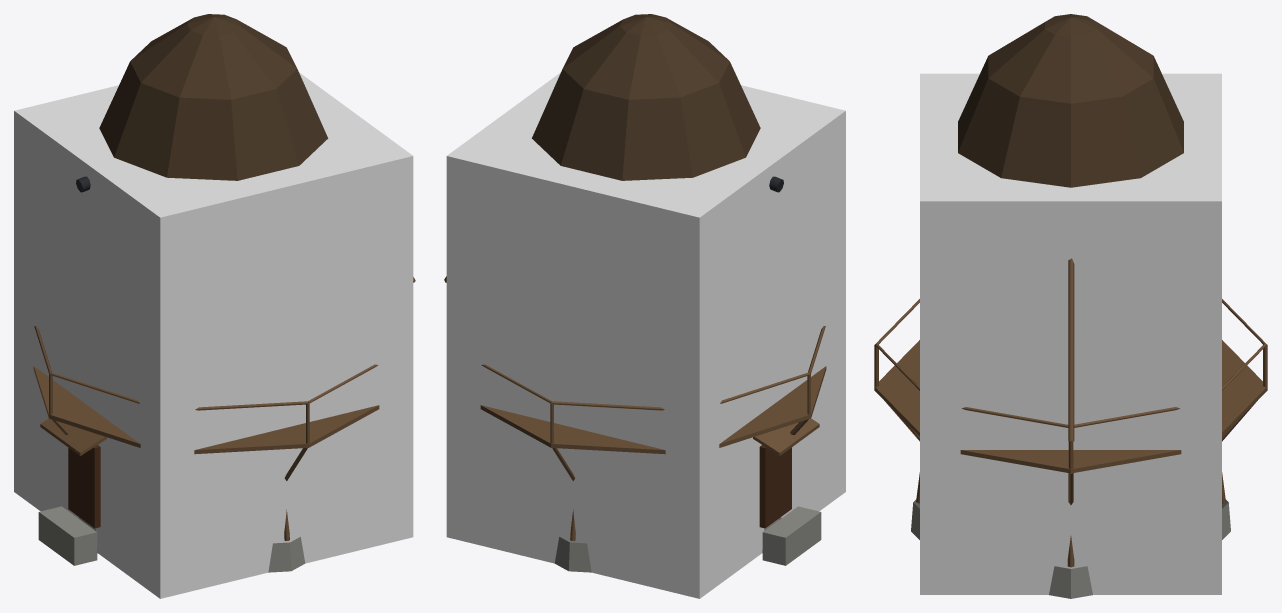
Rendered from mark-windmill.glb.
The picture shows the model from 3 angles, left to right: view 1: azimuth 30°, elevation 25°; view 2: azimuth 150°, elevation 25°; view 3: azimuth 270°, elevation 25°; orthographic projection. The views are drawn at different scales.
Parts seen in each view (by area): view 1: solid, 03_#4a3a2a, 02_#6a5038_r320, 00_#8a8a84, 05_#4a3020_noshadow; view 2: solid, 03_#4a3a2a, 02_#6a5038_r320, 00_#8a8a84, 05_#4a3020_noshadow; view 3: solid, 03_#4a3a2a, 02_#6a5038_r320, 00_#8a8a84.
Boxes of the visible parts, left/top/right/bottom form: solid: left=14, top=72, right=413, bottom=598; 03_#4a3a2a: left=99, top=14, right=328, bottom=180; 02_#6a5038_r320: left=33, top=277, right=415, bottom=540; 00_#8a8a84: left=38, top=506, right=305, bottom=572; 05_#4a3020_noshadow: left=68, top=445, right=100, bottom=528; solid: left=446, top=72, right=845, bottom=598; 03_#4a3a2a: left=532, top=14, right=760, bottom=180; 02_#6a5038_r320: left=444, top=276, right=826, bottom=540; 00_#8a8a84: left=554, top=506, right=821, bottom=572; 05_#4a3020_noshadow: left=759, top=445, right=791, bottom=528; solid: left=920, top=73, right=1221, bottom=594; 03_#4a3a2a: left=958, top=14, right=1183, bottom=187; 02_#6a5038_r320: left=874, top=258, right=1267, bottom=567; 00_#8a8a84: left=911, top=499, right=1230, bottom=598.
Size of the model in its own units: 9.56 by 12.4 by 8.6.
